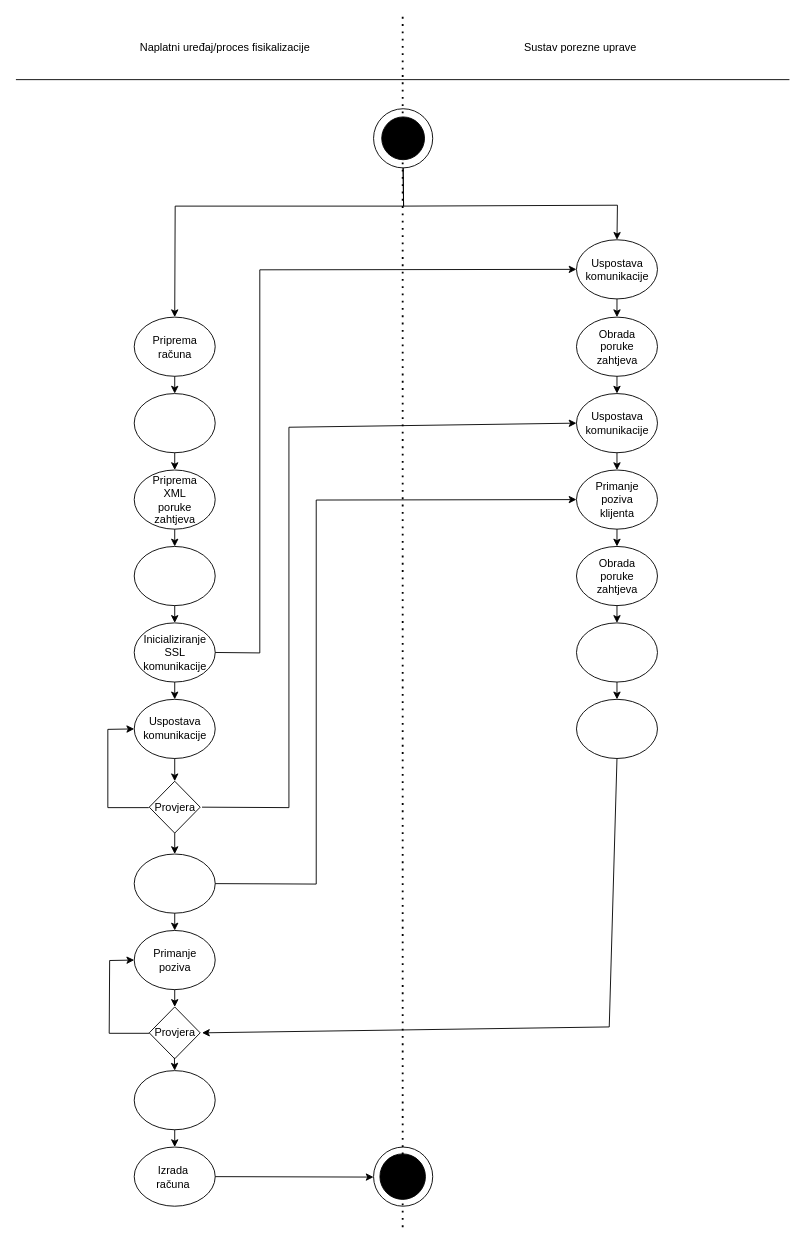
Some shapes in this 806 by 1248 pixel diagram are drawn without their labels. Here are the shapes that lost their labels. From the top down, the centre of each, then its label:
At point (174, 423): "Izračun zaštitnog koda".
At point (174, 576): "Elektroničko potpisivanje poruke".
At point (616, 652): "Priprema XML poruke".
At point (616, 728): "Elektroničko potpisivanje".
At point (174, 883): "Poziv servisa".
At point (174, 1100): "Provjera elektroničkog potpisa".
